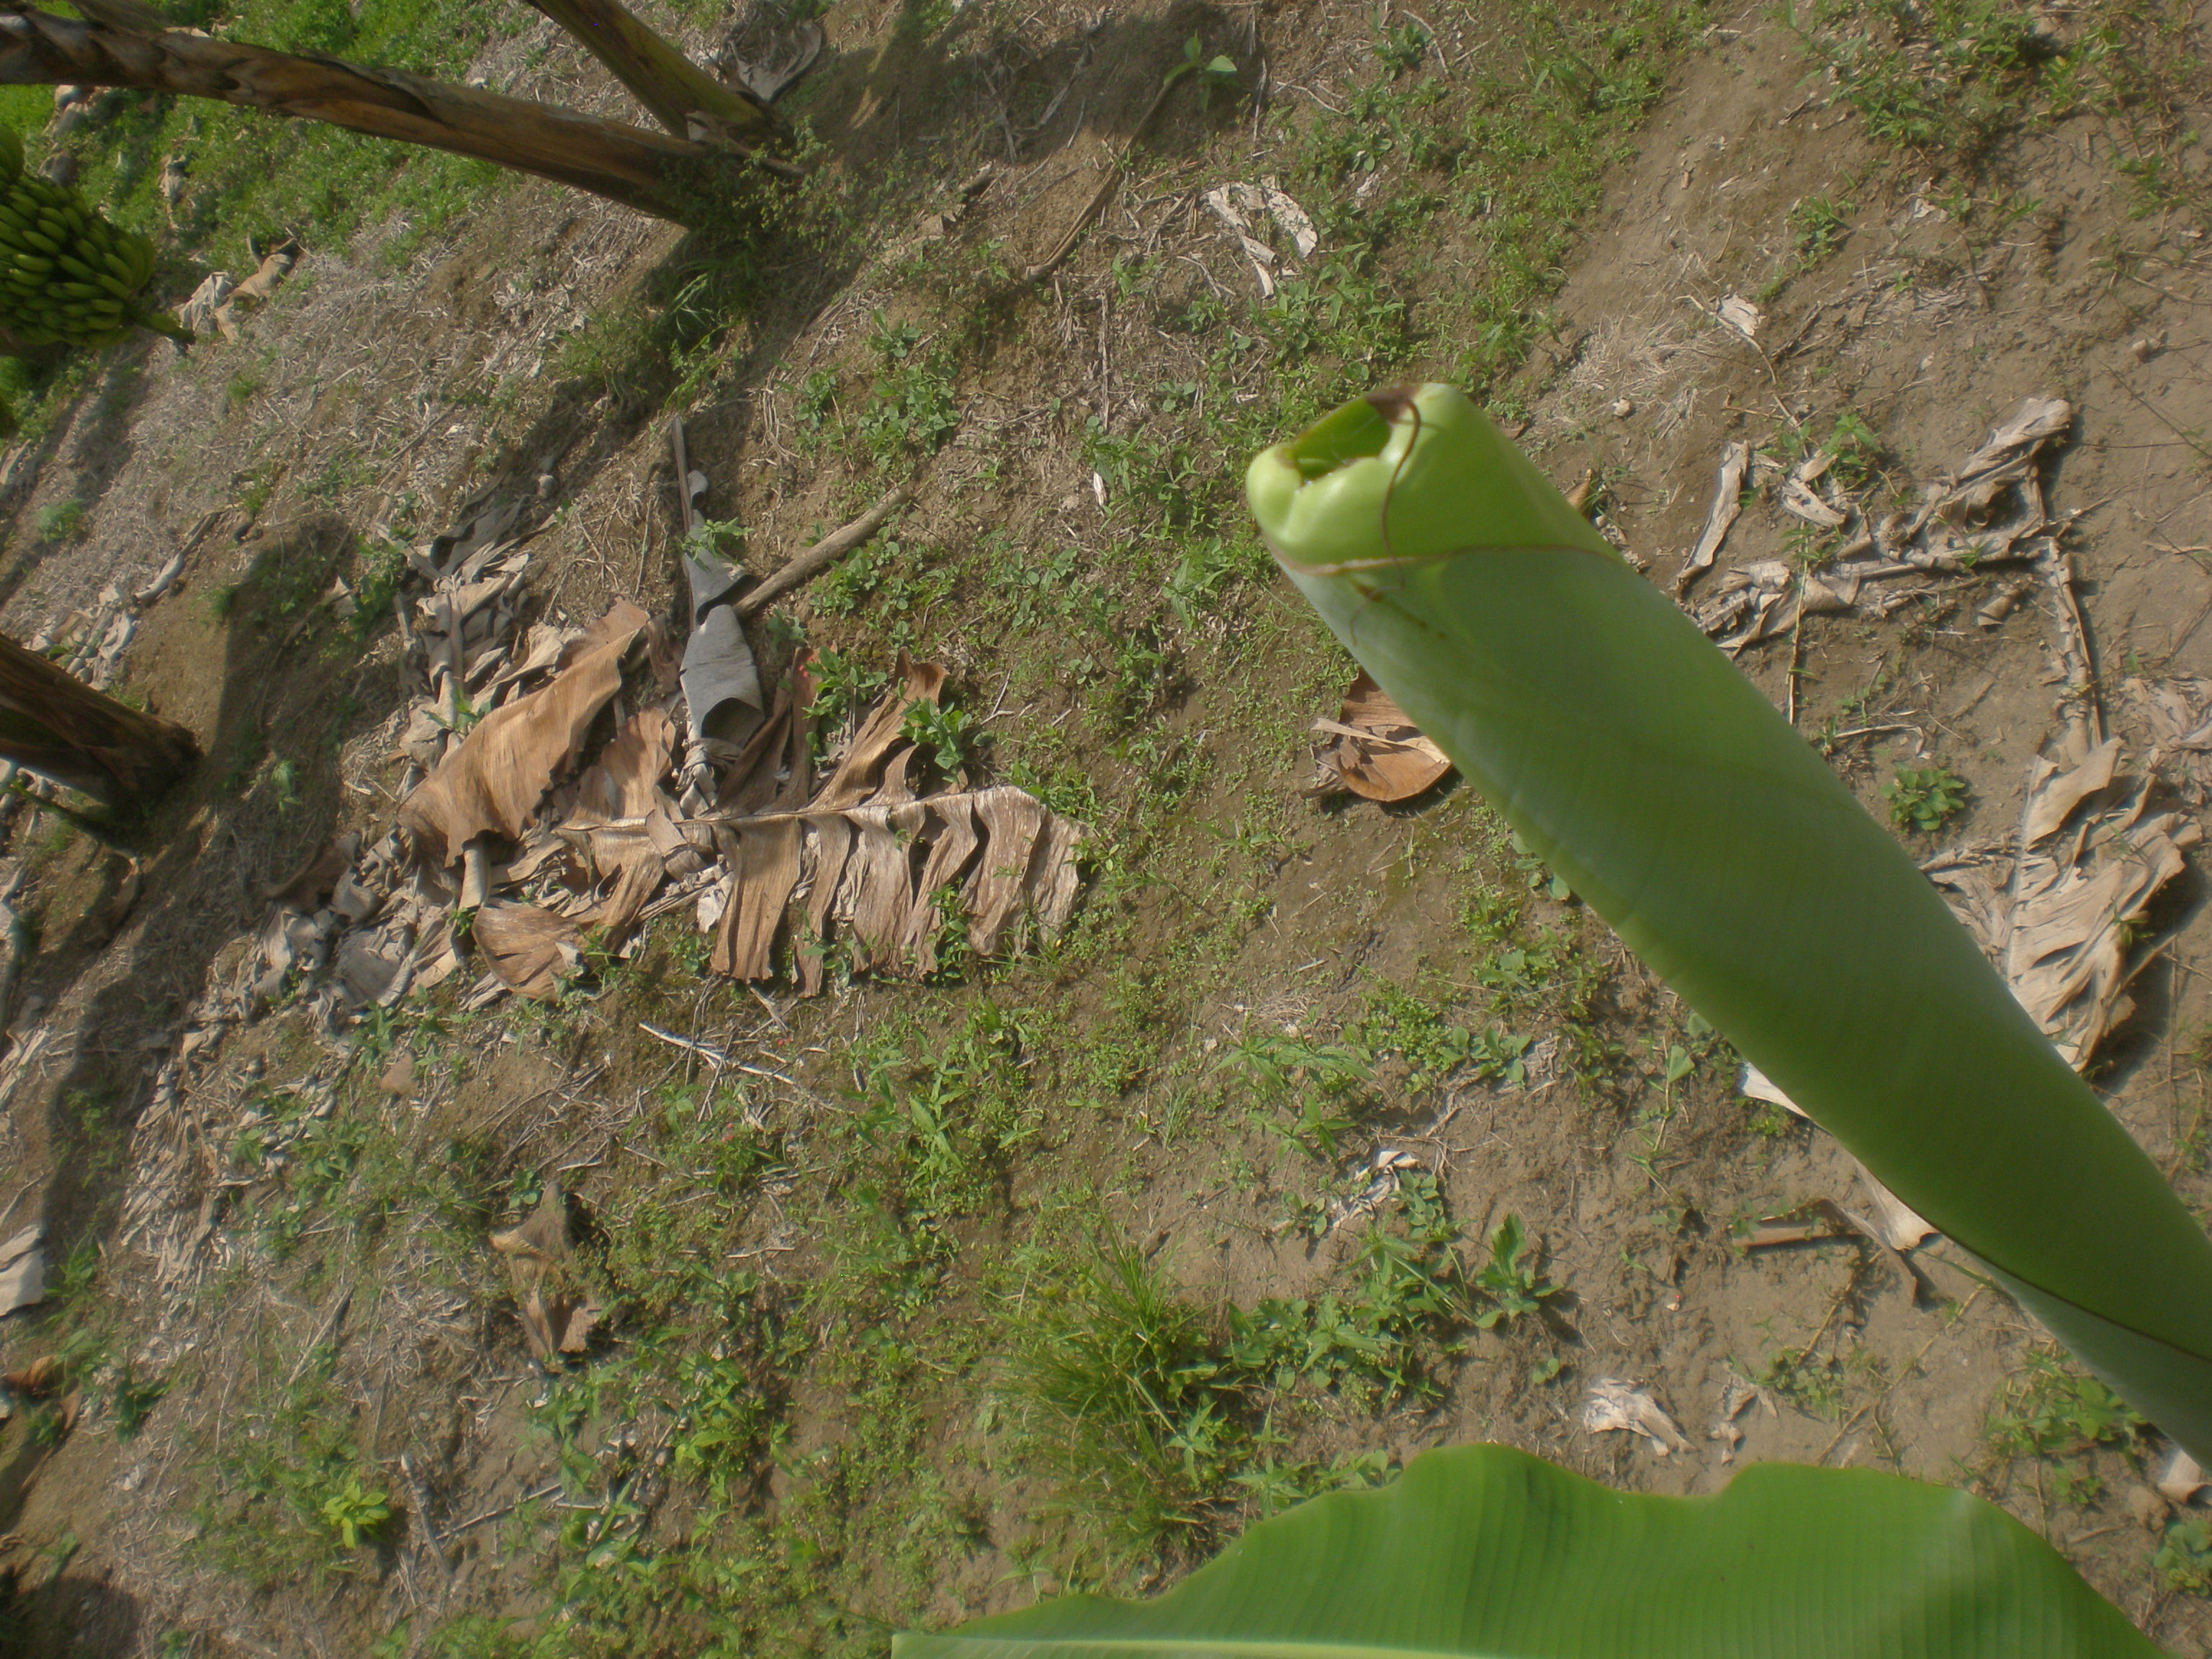candleleafs: (1238, 380, 2212, 1464)
